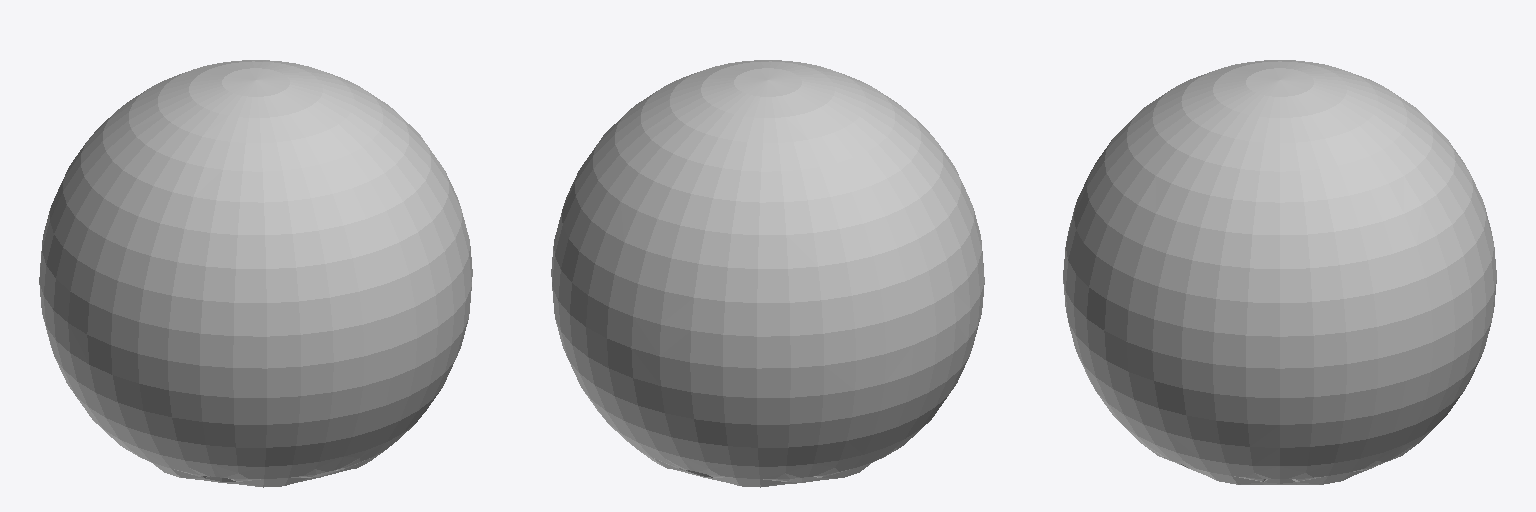
3 views of the same model, side by side, from view 1: azimuth 30°, elevation 25°; view 2: azimuth 150°, elevation 25°; view 3: azimuth 270°, elevation 25° (orthographic).
Parts seen in each view (by area): view 1: sphere; view 2: sphere; view 3: sphere.
Boxes of the visible parts, <box> form: sphere: <box>39,60,472,487</box>; sphere: <box>551,60,984,487</box>; sphere: <box>1063,60,1496,484</box>.
Size of the model in its own units: 1 by 0.8936 by 1.